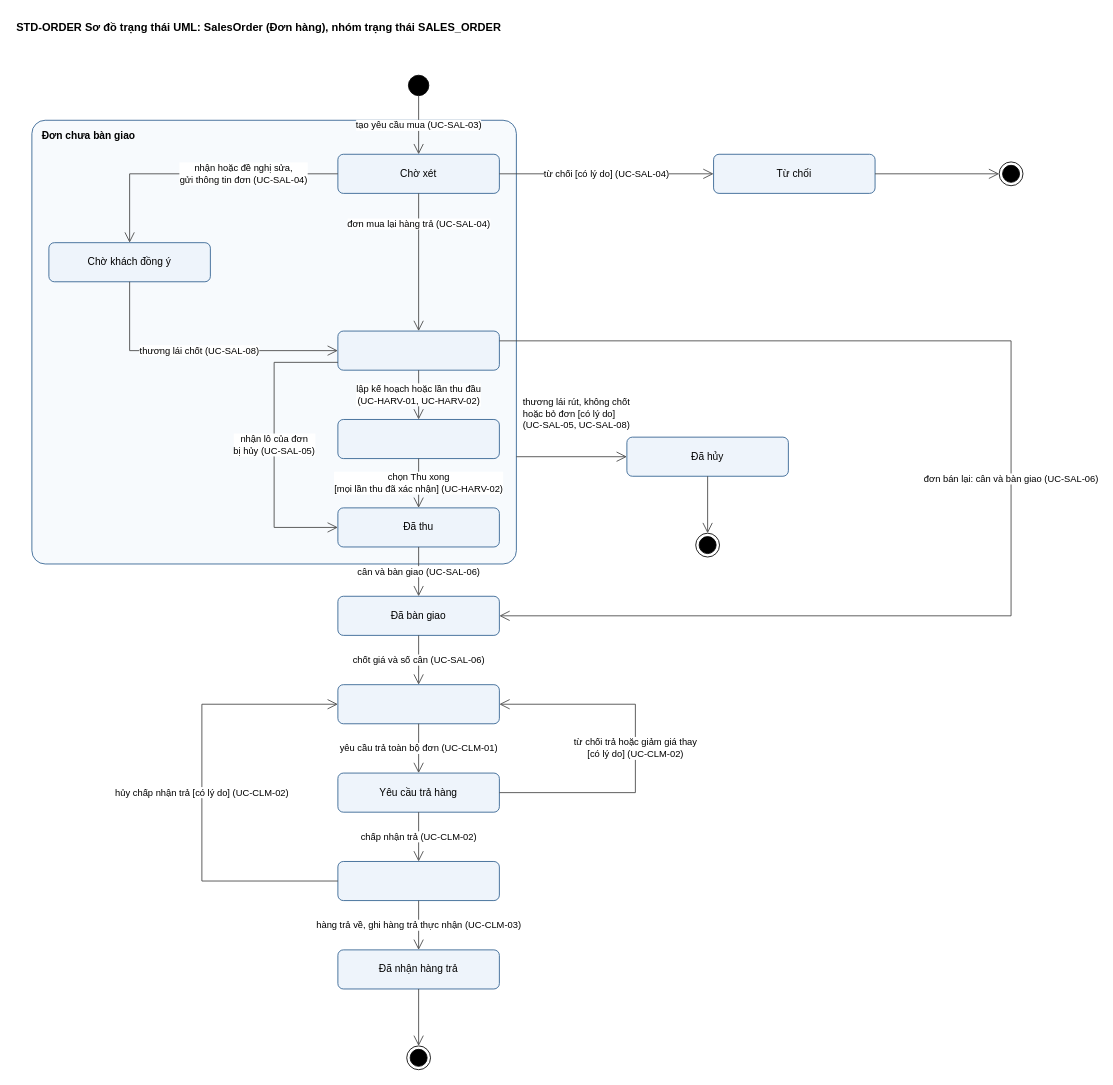
Some shapes in this 1113 by 1085 pixel diagram are drawn without their labels. The shapes that lost their labels are listed below. From the top down, each one's centre as x and y in pixels, then its label:
At (418,350): "Đã xác nhận".
At (418,439): "Đang thu hoạch".
At (418,704): "Đã chốt bán".
At (418,881): "Đã chấp nhận trả".
